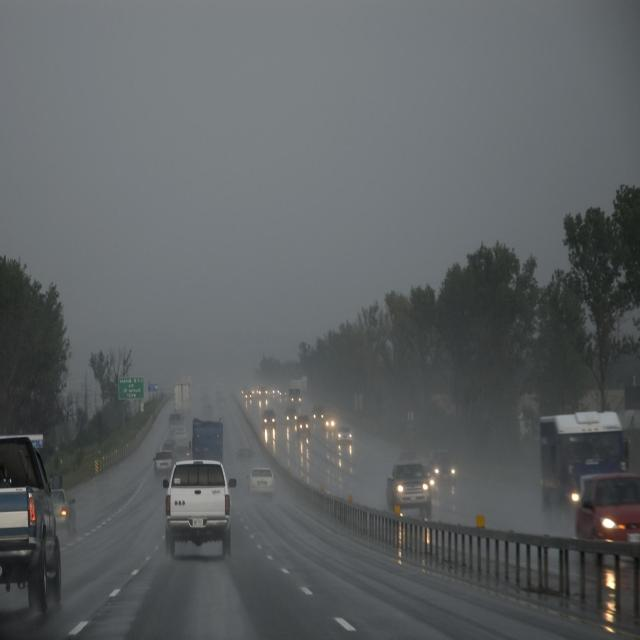Bus: (536, 407, 627, 524)
Car: (0, 440, 64, 614), (163, 458, 236, 561), (383, 461, 431, 512), (246, 464, 276, 498), (430, 450, 460, 484)
